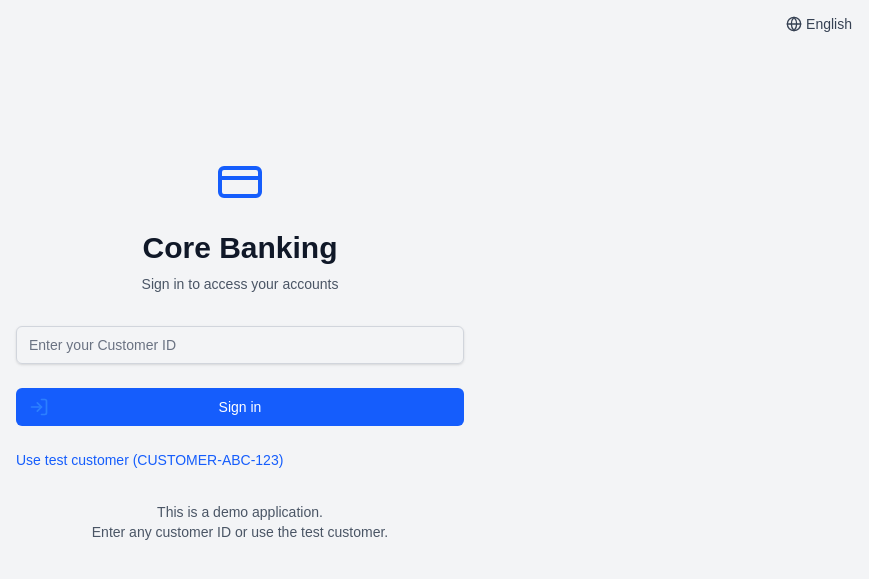
Scenario: LoginForm › clears error when user types in input
The width and height of the screenshot is (869, 579).
// First trigger an error
Click the button "Sign in": (240,407) [16, 388, 464, 426]
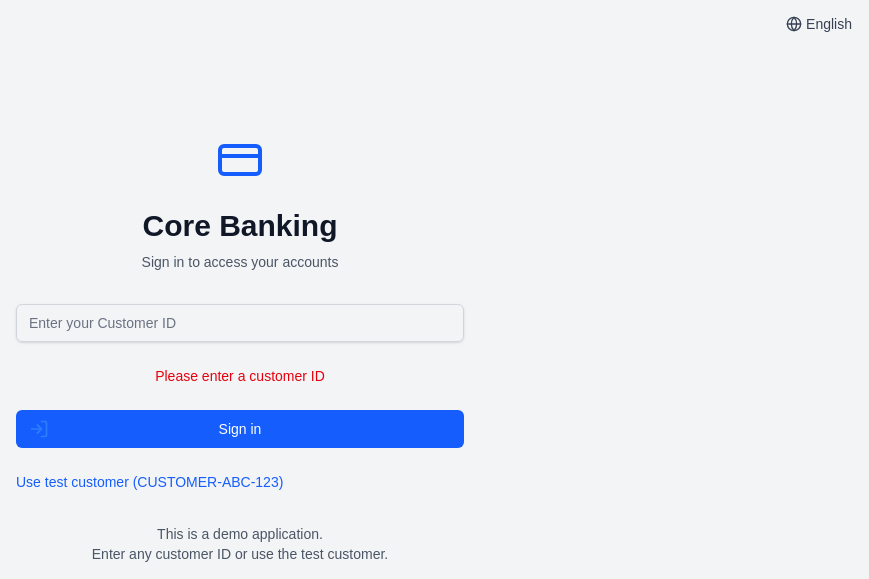
Expected: the text "Please enter a customer ID" is shown, [155, 368, 325, 384]
// Then type in input to clear error
In the field with placeholder "Enter your Customer ID": (240,323) [16, 304, 464, 342], type "test"
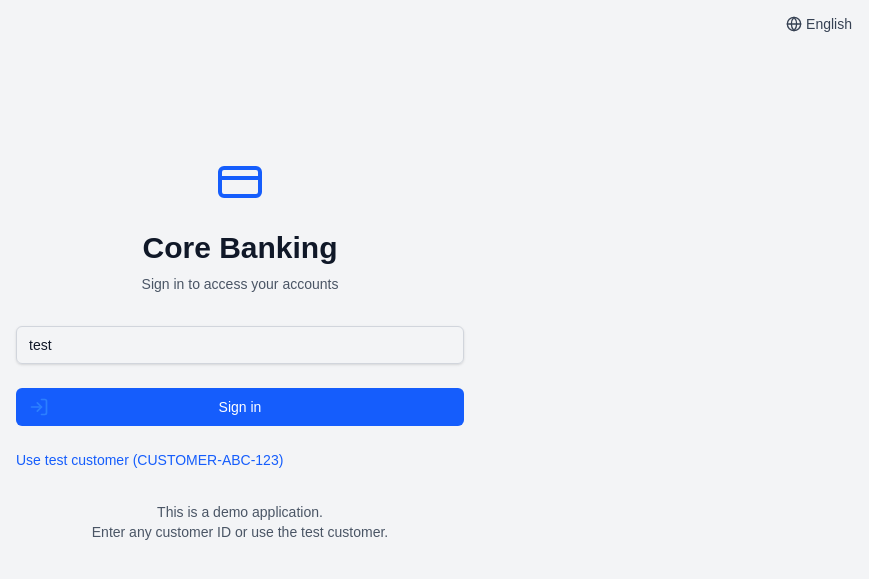
Expected: the text "Please enter a customer ID" is gone
